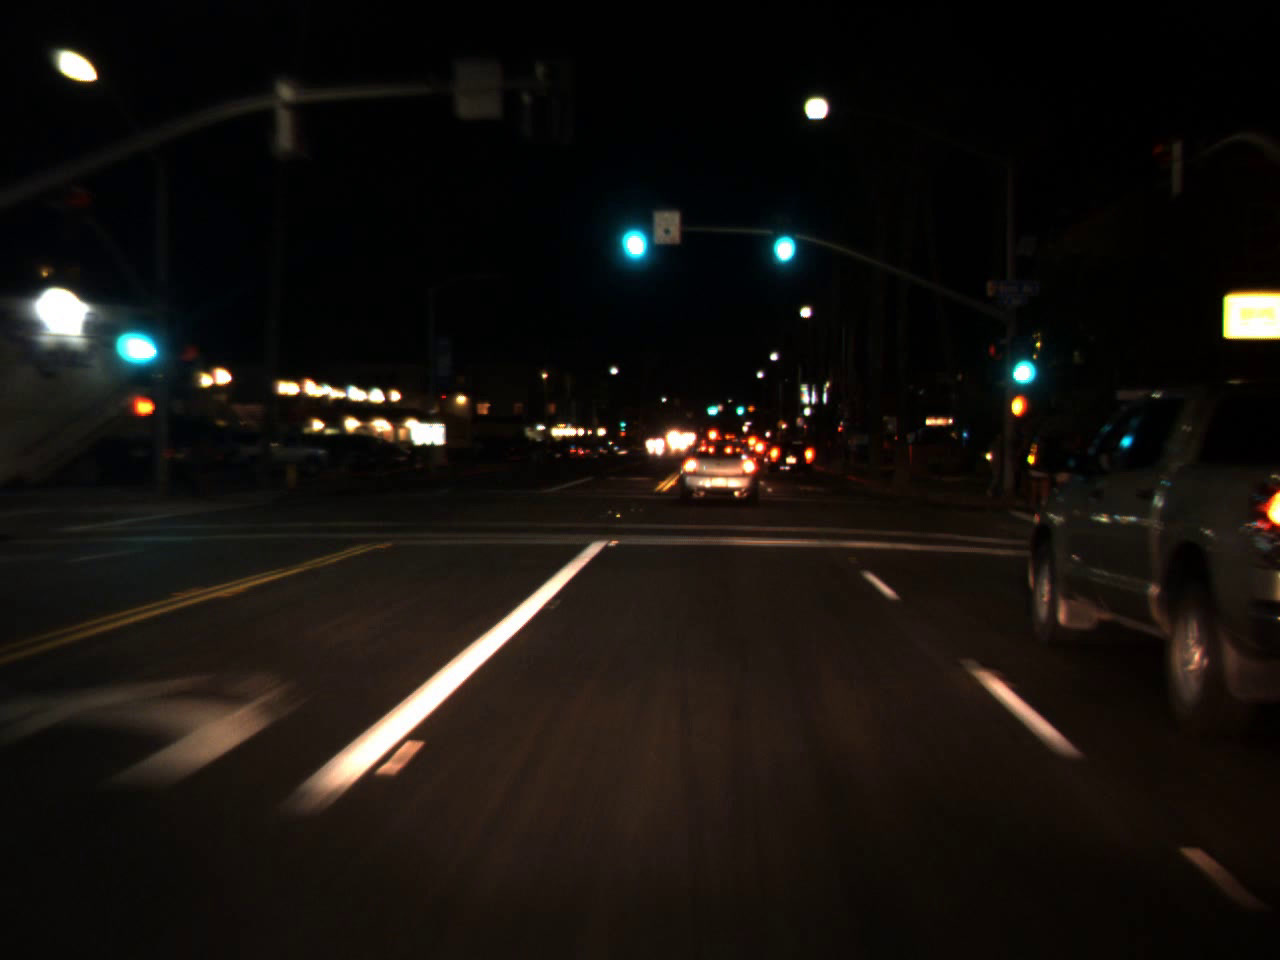go: (108, 296, 160, 374), (611, 190, 652, 271), (764, 201, 800, 273), (1002, 330, 1041, 393), (703, 394, 718, 418), (732, 398, 744, 416), (619, 416, 626, 428)
